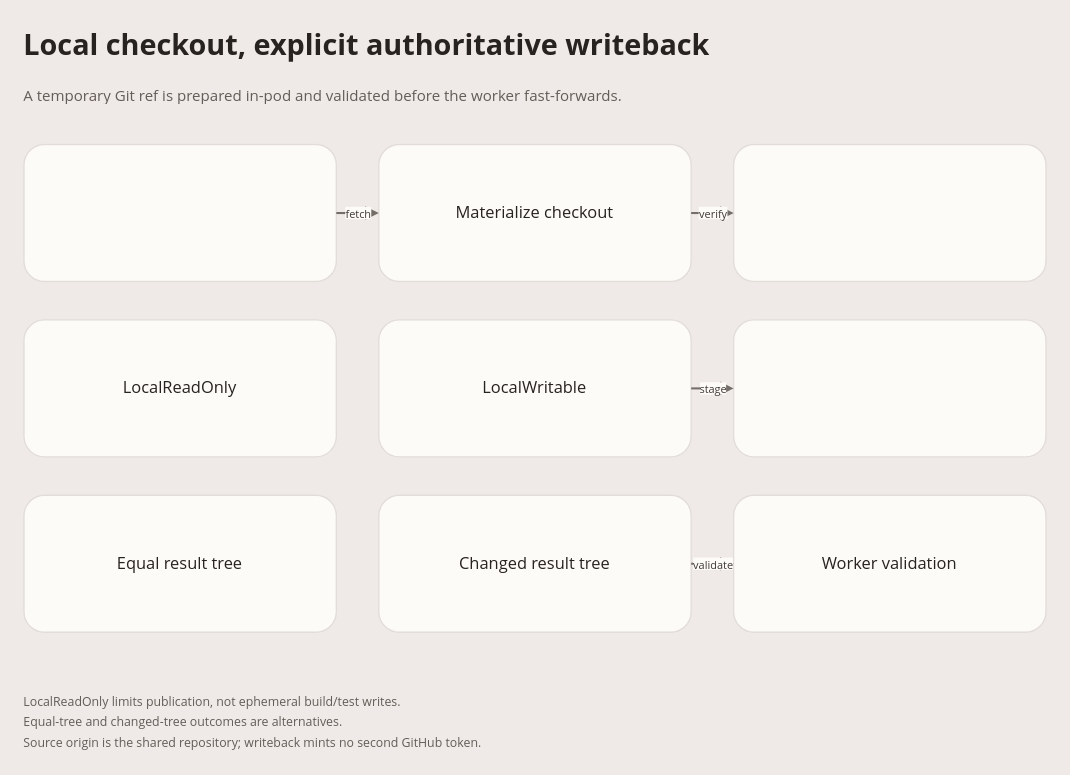
Image size: 1070x775. Some labels were removed from this diagram. Each missing label, with the centre of its shape:
Ephemeral checkout: [889,212]
Prepare publication: [889,388]
Source coordinates: [179,212]
